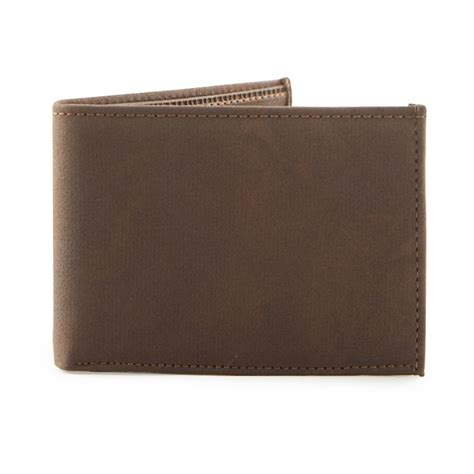gamuza: (51, 100, 427, 379)
